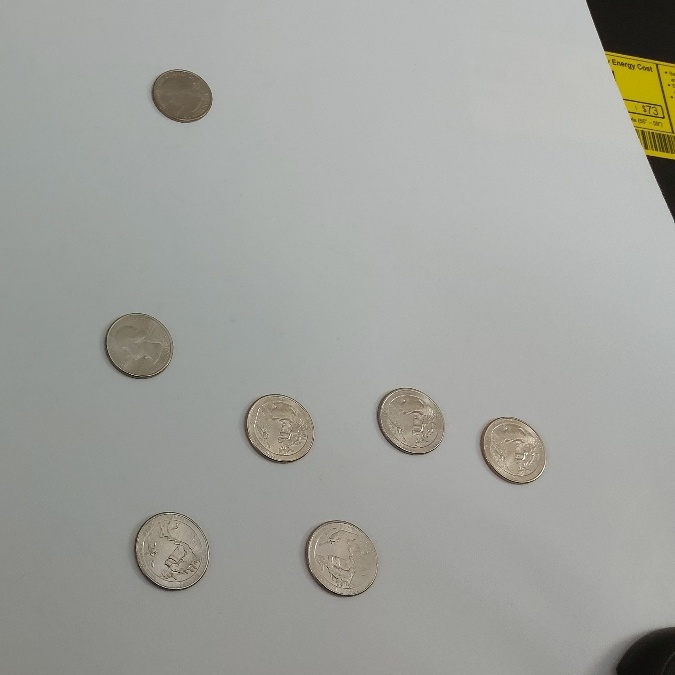coin_quarter: (299, 517, 380, 598), (130, 512, 210, 593), (376, 379, 450, 457), (245, 387, 318, 465), (480, 407, 553, 485), (103, 309, 176, 381), (150, 62, 219, 127)
